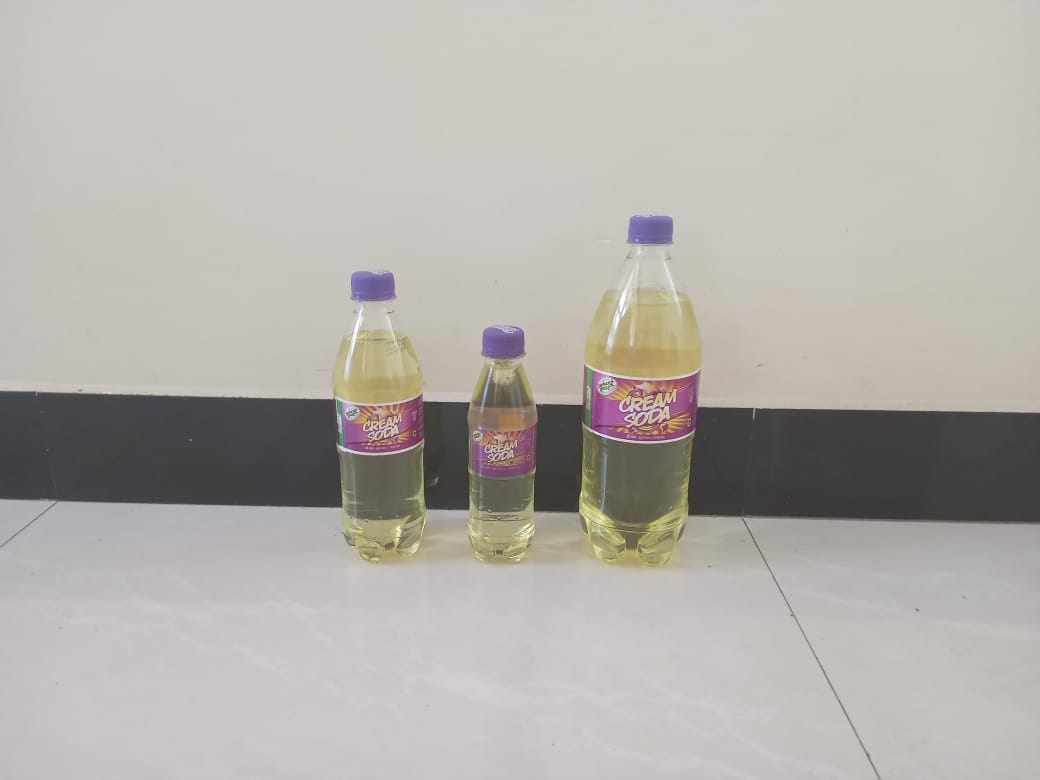M: (579, 203, 700, 565)
S: (331, 271, 431, 561)
Xs: (465, 328, 541, 568)
